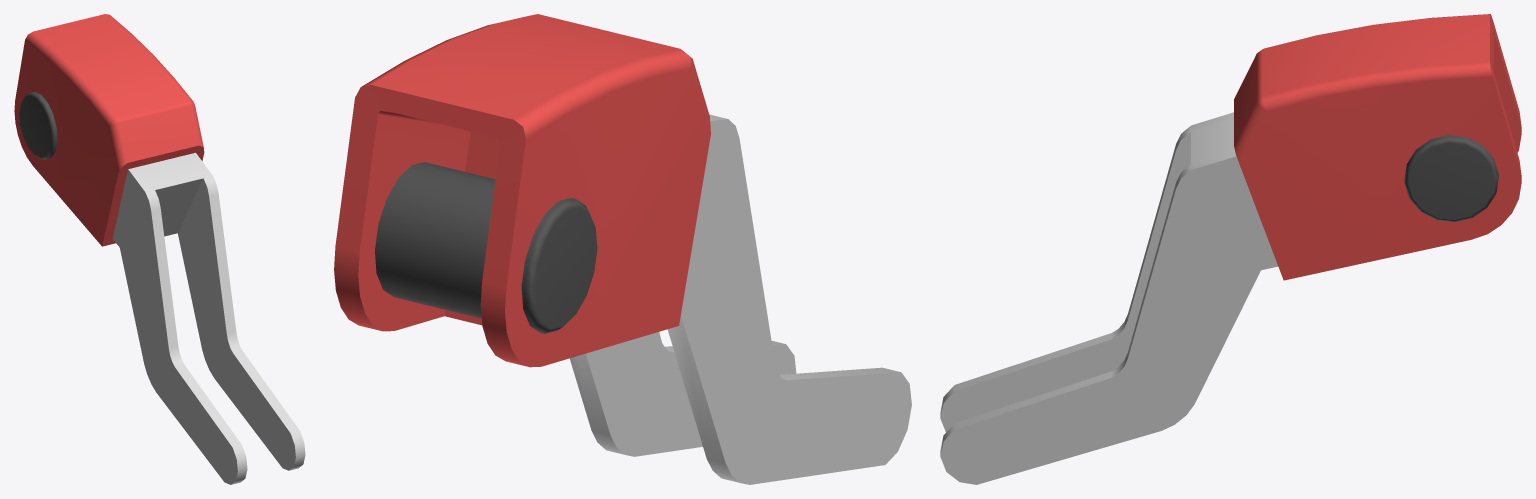
The model's file is obstacle_8_005.fbx.
3 renders of one model, left to right at view 1: azimuth 30°, elevation 25°; view 2: azimuth 150°, elevation 25°; view 3: azimuth 270°, elevation 25°, orthographic. The views are drawn at different scales.
Parts seen in each view (by area): view 1: obstacle_8_005; view 2: obstacle_8_005; view 3: obstacle_8_005.
Part boxes in pixels (x1,y1,x2,y2): obstacle_8_005: (14,14,305,484); obstacle_8_005: (334,14,911,484); obstacle_8_005: (940,14,1521,484).
Bounding box in the file's own units: 261 × 1000 × 806.
